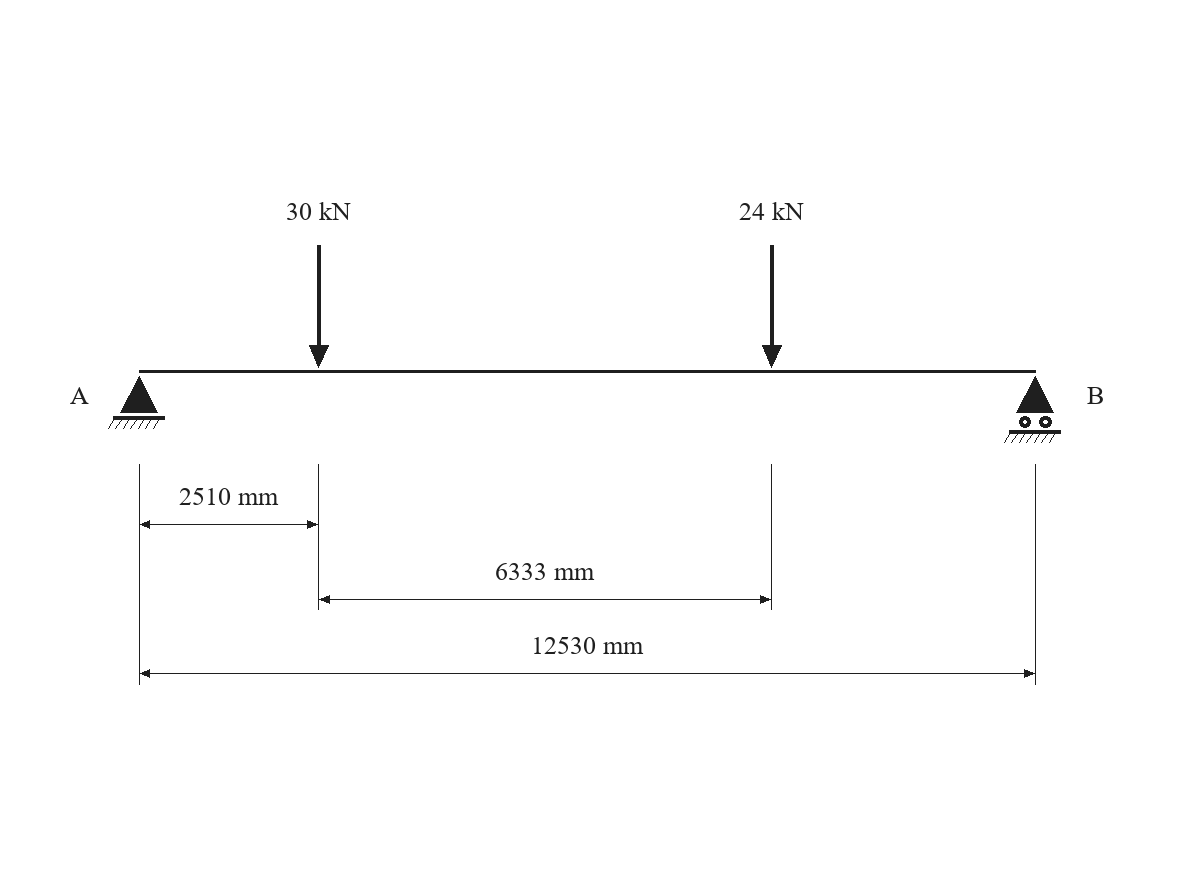pin_support: (108, 376, 165, 429)
point_load: (309, 245, 329, 368), (762, 245, 782, 368)
roller_support: (1004, 376, 1061, 443)
